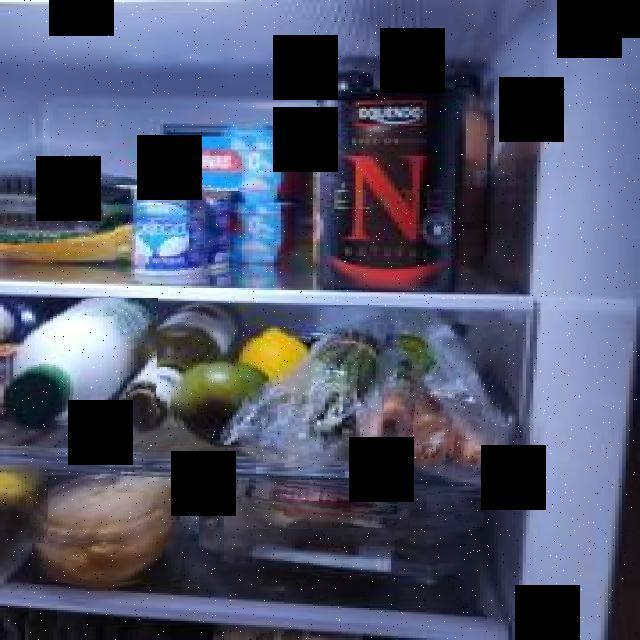asparagus: (314, 324, 386, 457)
carrot: (372, 325, 506, 479)
cheese: (247, 477, 411, 528)
humus: (32, 472, 192, 584)
lemon: (237, 328, 311, 404)
milk: (5, 298, 158, 428)
pineapple: (2, 468, 48, 543)
tomato: (172, 359, 268, 447)
yogurt: (116, 186, 212, 282), (204, 188, 240, 277)
